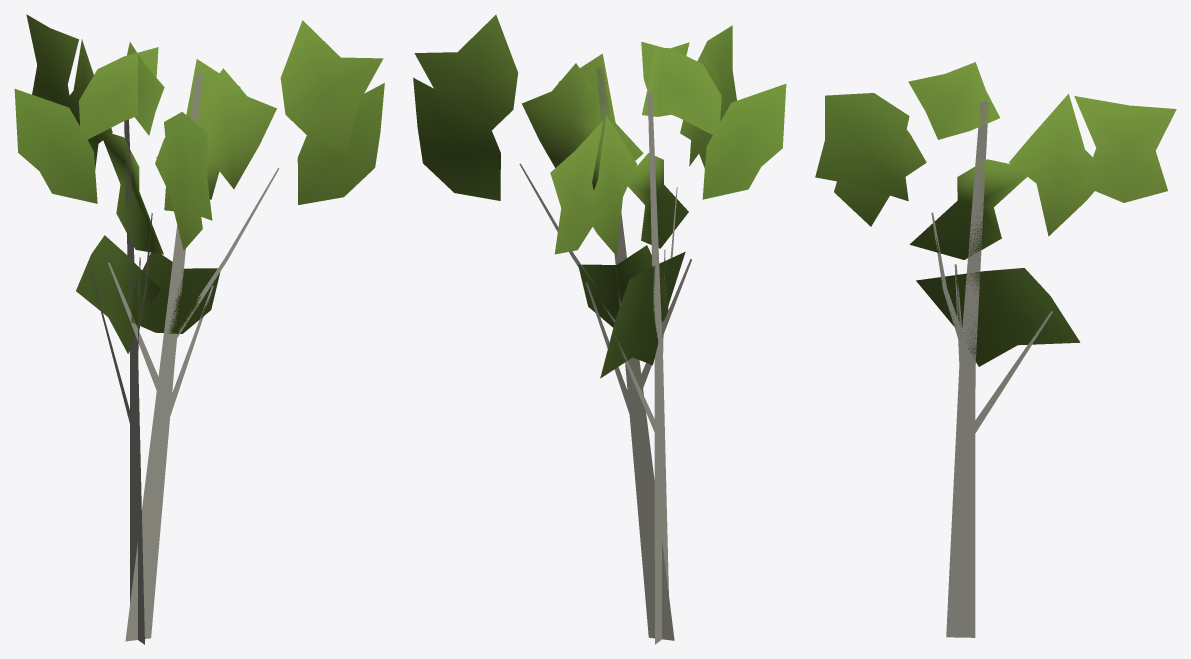
File: birch-b.card.glb
The picture shows the model from 3 angles, left to right: view 1: azimuth 30°, elevation 25°; view 2: azimuth 150°, elevation 25°; view 3: azimuth 270°, elevation 25°; orthographic projection. The views are drawn at different scales.
Size of the model in its own units: 5.16 by 7.91 by 4.49.
